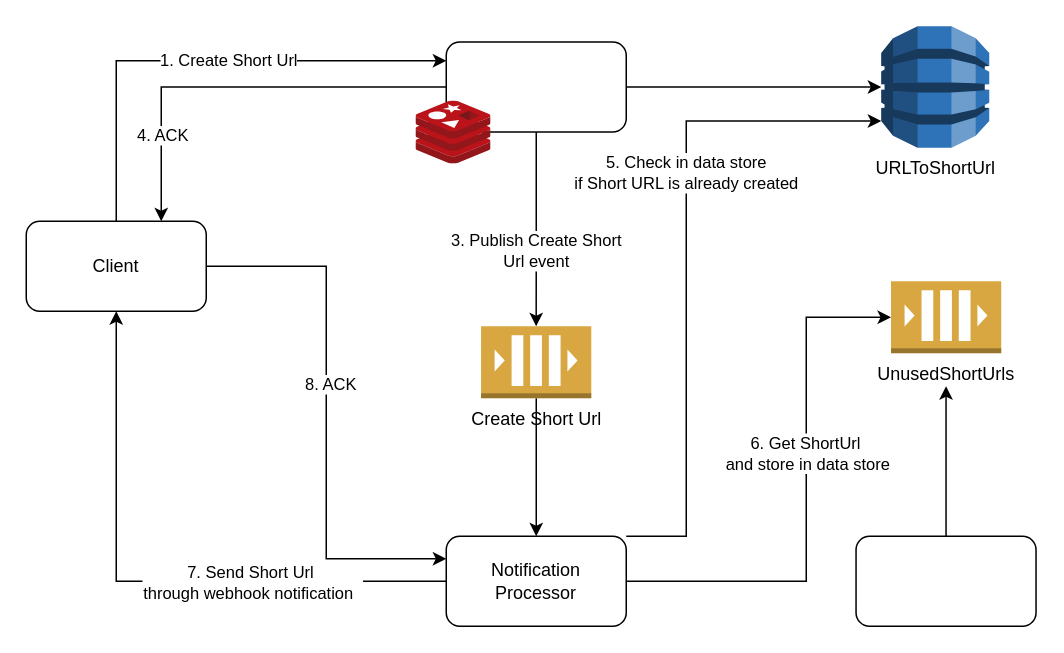
This 1064x653 diagram has some shape labels left out. Each missing label, with the centre of its shape:
2. check in cache: the point at 453,132
Tiny Url Generator: the point at 945,580
Tiny URL Generator API: the point at 535,86
